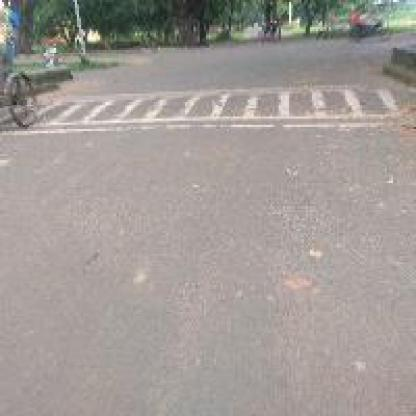Speed Bump: (44, 87, 399, 127)
